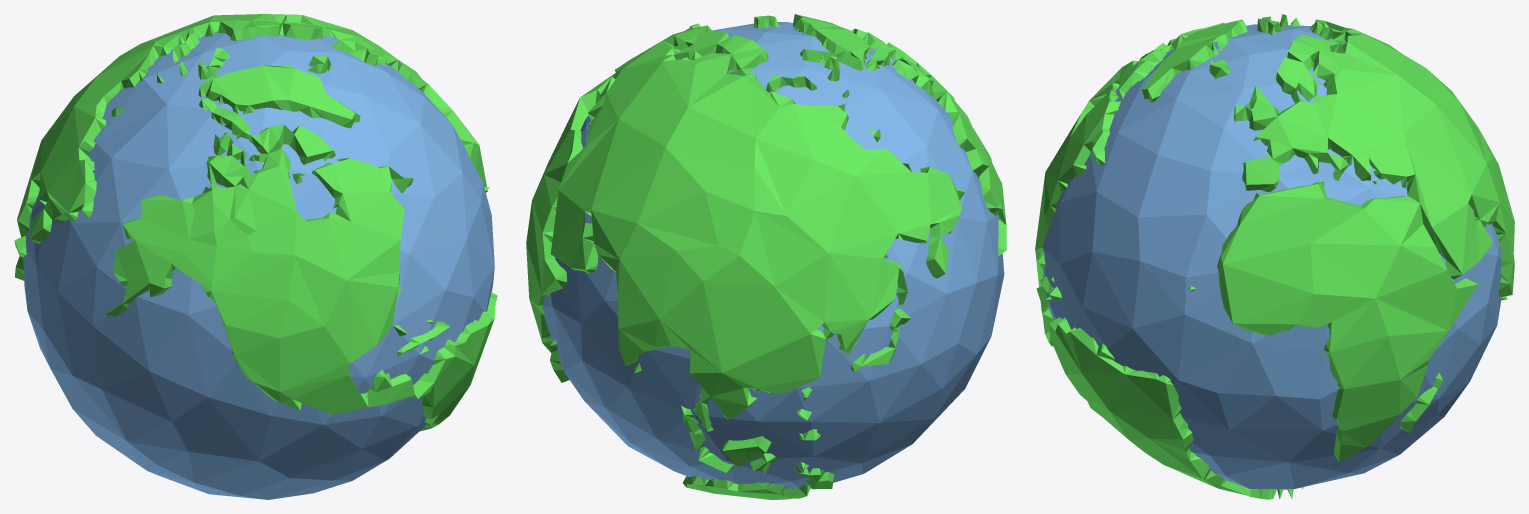
The model's file is low_poly_earth.gltf.
3 renders of one model, left to right at view 1: azimuth 30°, elevation 25°; view 2: azimuth 150°, elevation 25°; view 3: azimuth 270°, elevation 25°, orthographic.
Visible parts, largest first — view 1: low_poly_earth; view 2: low_poly_earth; view 3: low_poly_earth.
Part boxes in pixels (x1,y1,x2,y2): low_poly_earth: [14, 14, 497, 499]; low_poly_earth: [526, 14, 1006, 499]; low_poly_earth: [1035, 14, 1514, 499].
Size of the model in its own units: 1.95 by 2.01 by 1.99.
